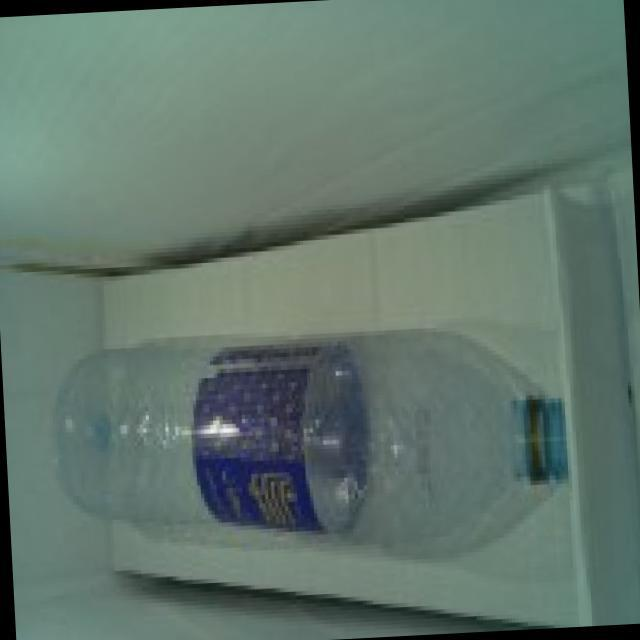good: (53, 297, 608, 594)
